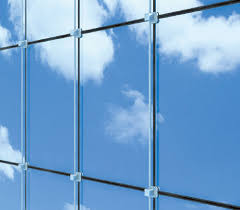glass_panel: (157, 8, 239, 203), (81, 27, 148, 185), (28, 38, 73, 171), (0, 50, 20, 161), (80, 0, 148, 28), (81, 181, 147, 209), (27, 0, 73, 39), (28, 170, 72, 209), (0, 0, 22, 46), (0, 163, 20, 209), (157, 197, 226, 209)
